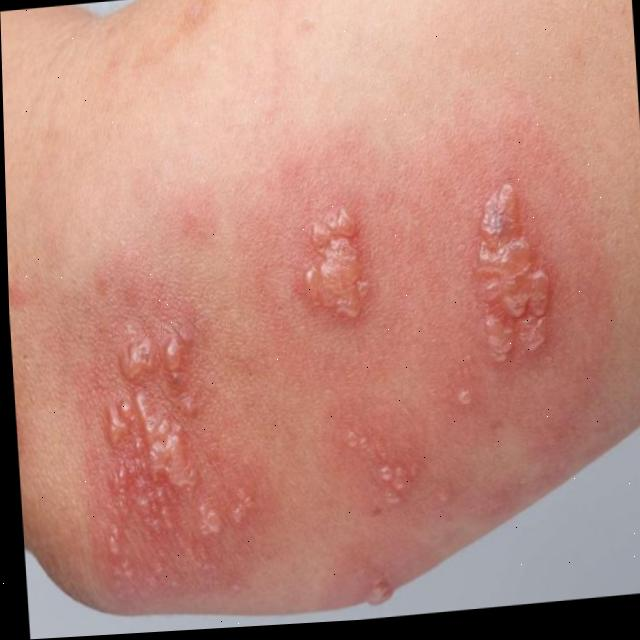Shingles: (71, 294, 259, 604), (463, 171, 561, 361), (292, 195, 381, 337)
